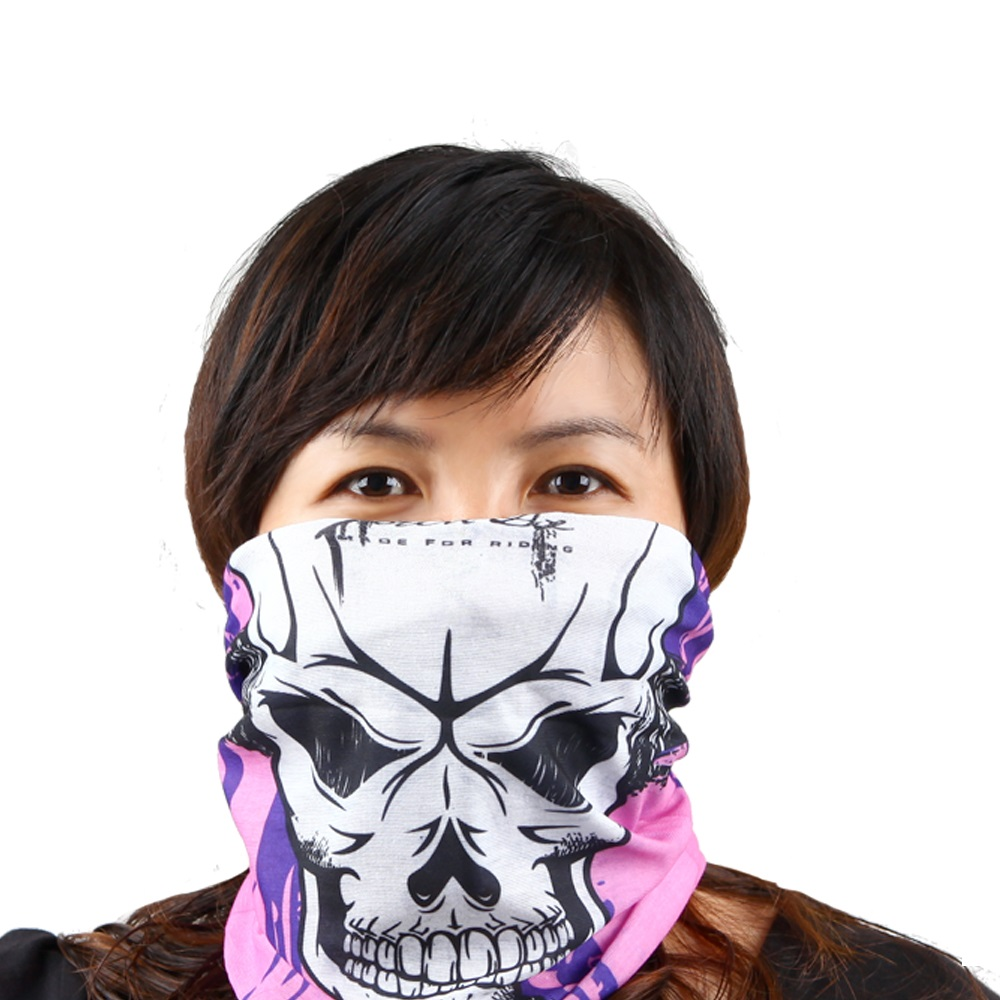face_mask: (256, 286, 681, 828)
